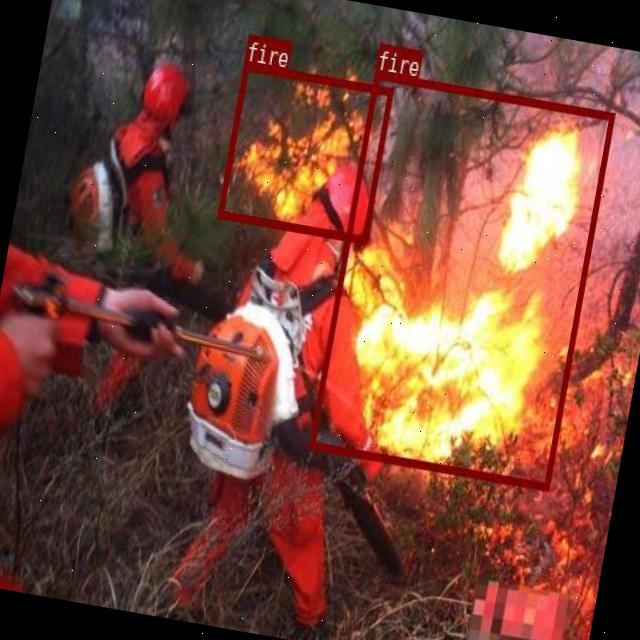fire: (307, 71, 614, 490), (216, 61, 392, 242)
